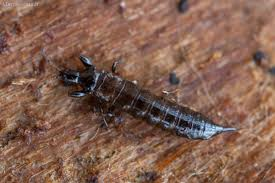Phlaeothripidae: (48, 53, 242, 141)
